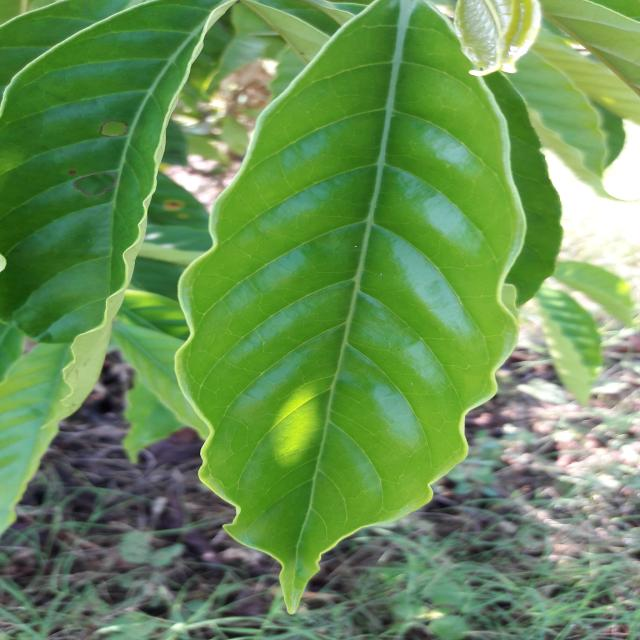Sanas: (173, 0, 564, 617)
